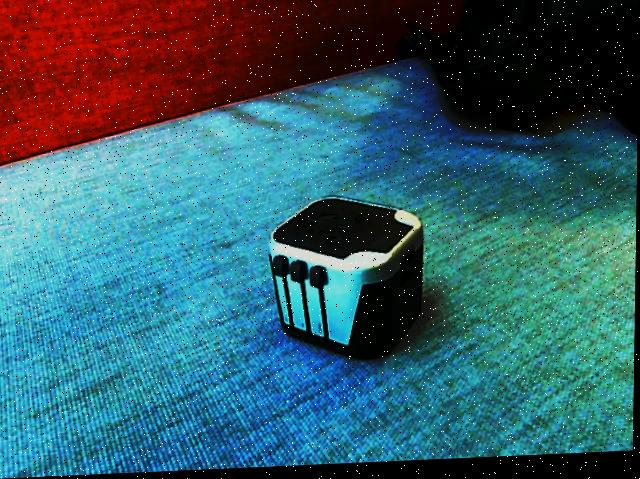adapter: (267, 195, 426, 367)
